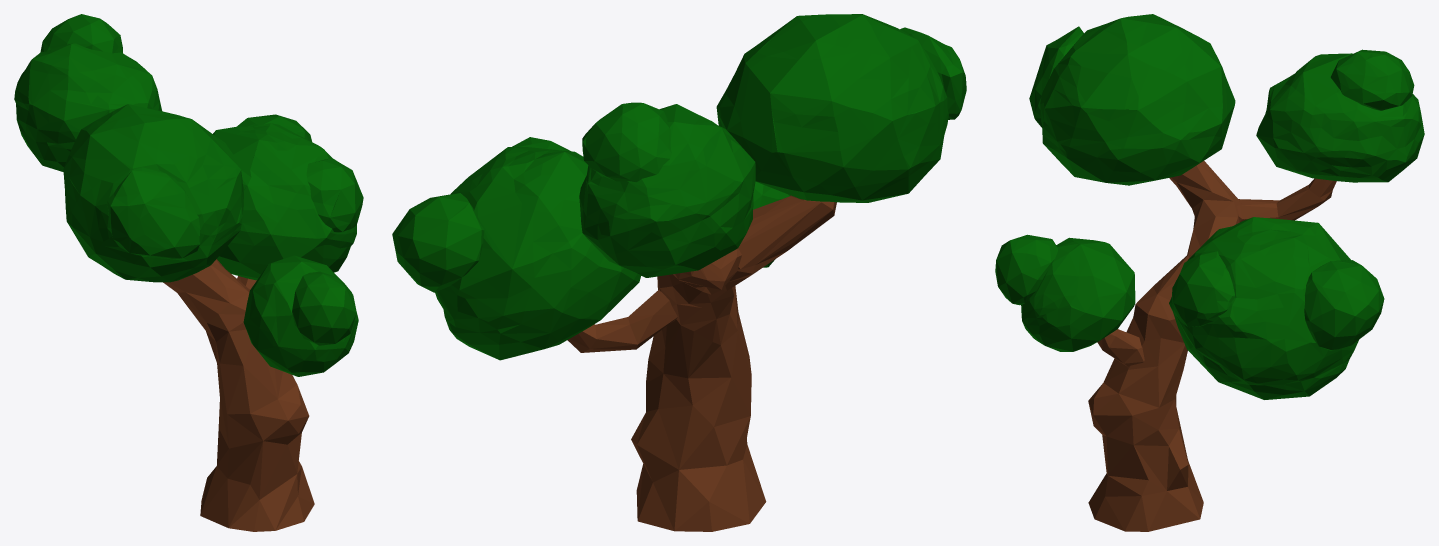
File: Jungle.fbx
3 renders of one model, left to right at view 1: azimuth 30°, elevation 25°; view 2: azimuth 150°, elevation 25°; view 3: azimuth 270°, elevation 25°, orthographic. The views are drawn at different scales.
Visible parts, largest first — view 1: Tree5; view 2: Tree5; view 3: Tree5.
Boxes of the visible parts, <box> form: Tree5: <box>14,14,363,531</box>; Tree5: <box>392,14,966,531</box>; Tree5: <box>995,14,1424,531</box>.
Size of the model in its own units: 292 by 322 by 266.
